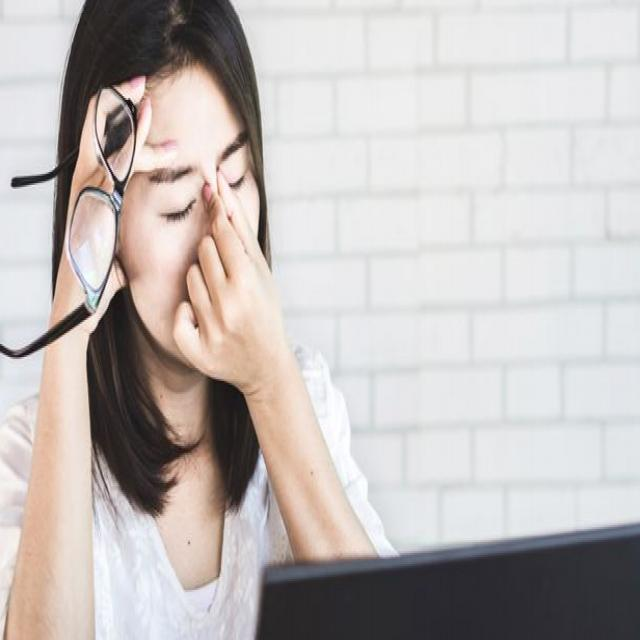Glasses: (0, 89, 145, 370)
